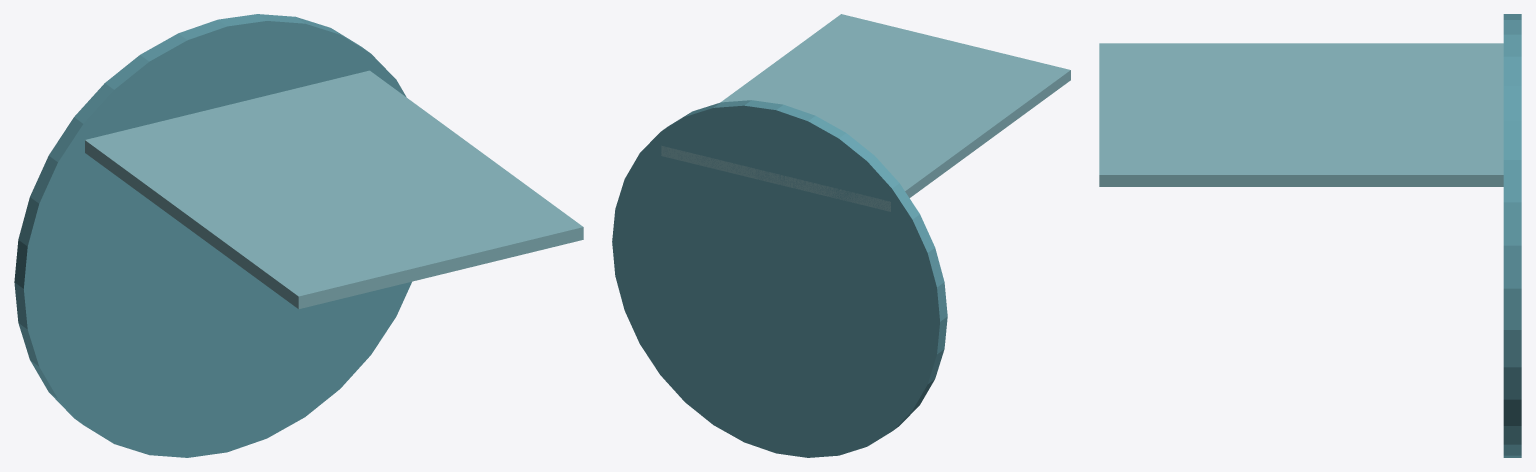
Rendered from waterfall_and_pool.glb.
The picture shows the model from 3 angles, left to right: view 1: azimuth 30°, elevation 25°; view 2: azimuth 150°, elevation 25°; view 3: azimuth 270°, elevation 25°; orthographic projection. The views are drawn at different scales.
Parts seen in each view (by area): view 1: pool, fall; view 2: pool, fall; view 3: fall, pool.
Boxes of the visible parts, bbox=[...] form: pool: bbox=[14, 14, 411, 457]; fall: bbox=[85, 70, 583, 309]; pool: bbox=[612, 100, 947, 457]; fall: bbox=[661, 14, 1070, 211]; fall: bbox=[1099, 43, 1503, 186]; pool: bbox=[1503, 14, 1521, 457].
Bounding box in the file's own units: 4 × 4 × 3.8.
